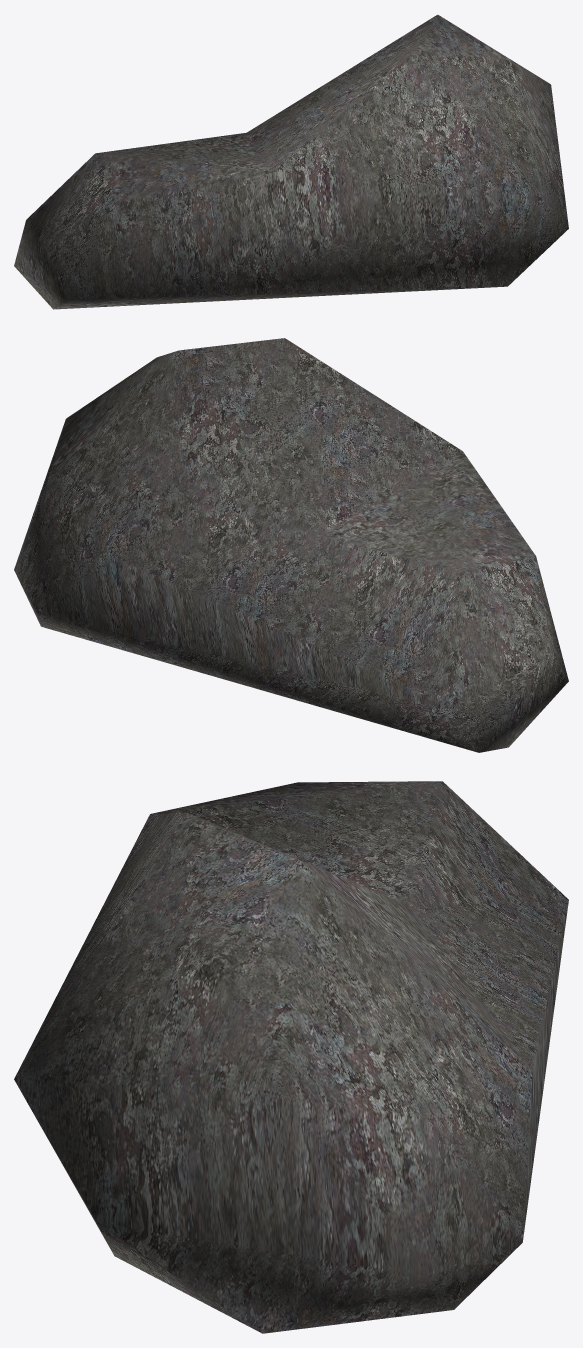
The model's file is rock_volcanorocka_l3.fbx.
3 renders of one model, top to bottom at view 1: azimuth 30°, elevation 25°; view 2: azimuth 150°, elevation 25°; view 3: azimuth 270°, elevation 25°, orthographic. The views are drawn at different scales.
Parts seen in each view (by area): view 1: mesh_node; view 2: mesh_node; view 3: mesh_node.
Part boxes in pixels (box(x1,y1,x2,y2)): mesh_node: box(14, 14, 568, 309); mesh_node: box(14, 338, 568, 752); mesh_node: box(14, 781, 568, 1333).
Bounding box in the file's own units: 17.87 × 8.76 × 11.
1 material, 1 textured.
